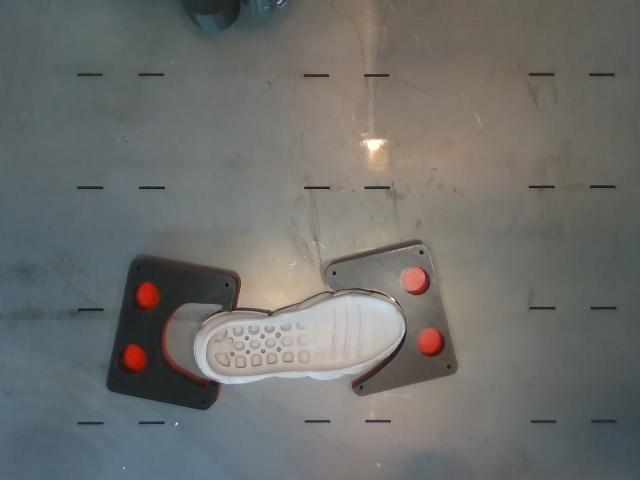shoes: (206, 296, 404, 377)
